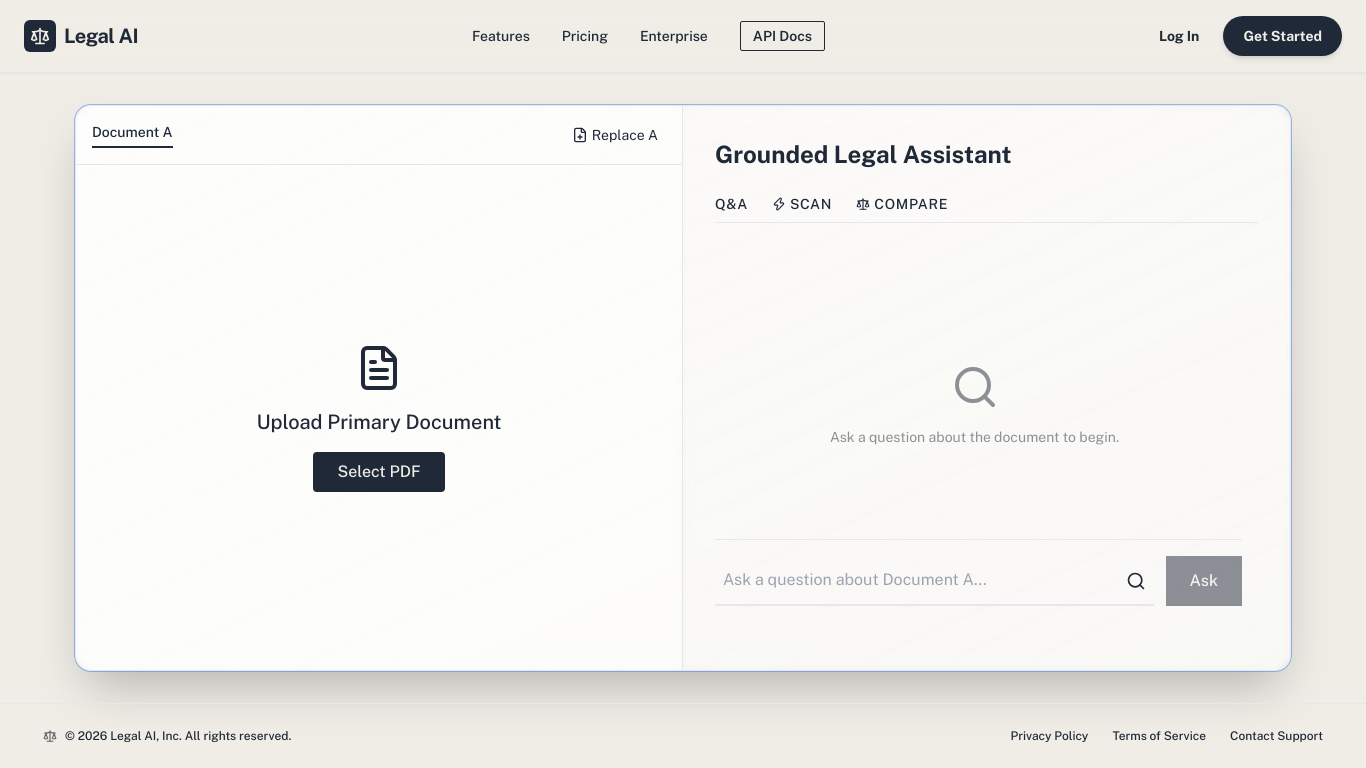
Test: Legal AI App › can switch tabs in the right sidebar
Note: Switch to Compare Right Tab
Click the button "Compare": coordinates (902, 204) [856, 194, 948, 214]
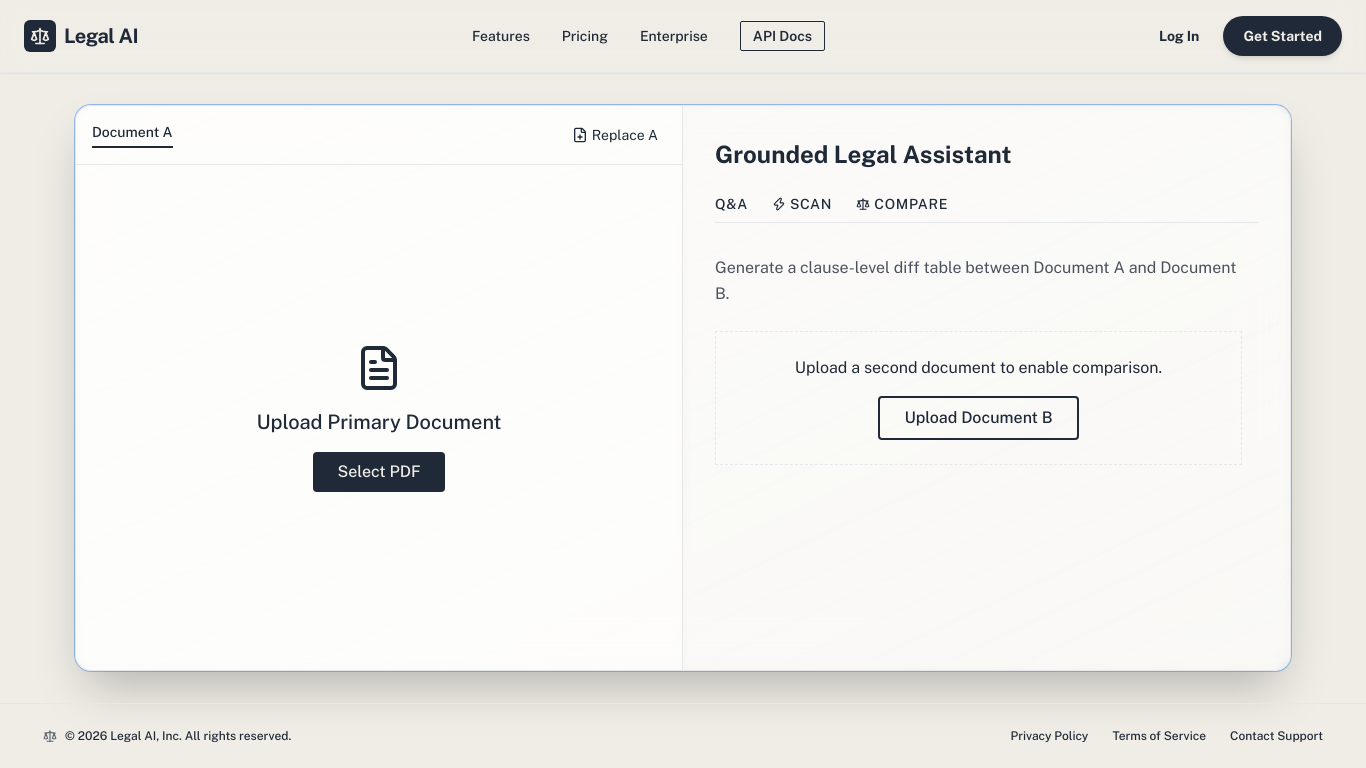
Expected: the text "Generate a clause-level diff table" is shown, [715, 258, 1236, 303]
